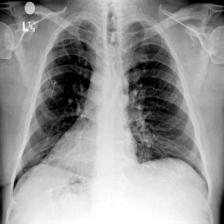normal: (11, 13, 213, 202)
